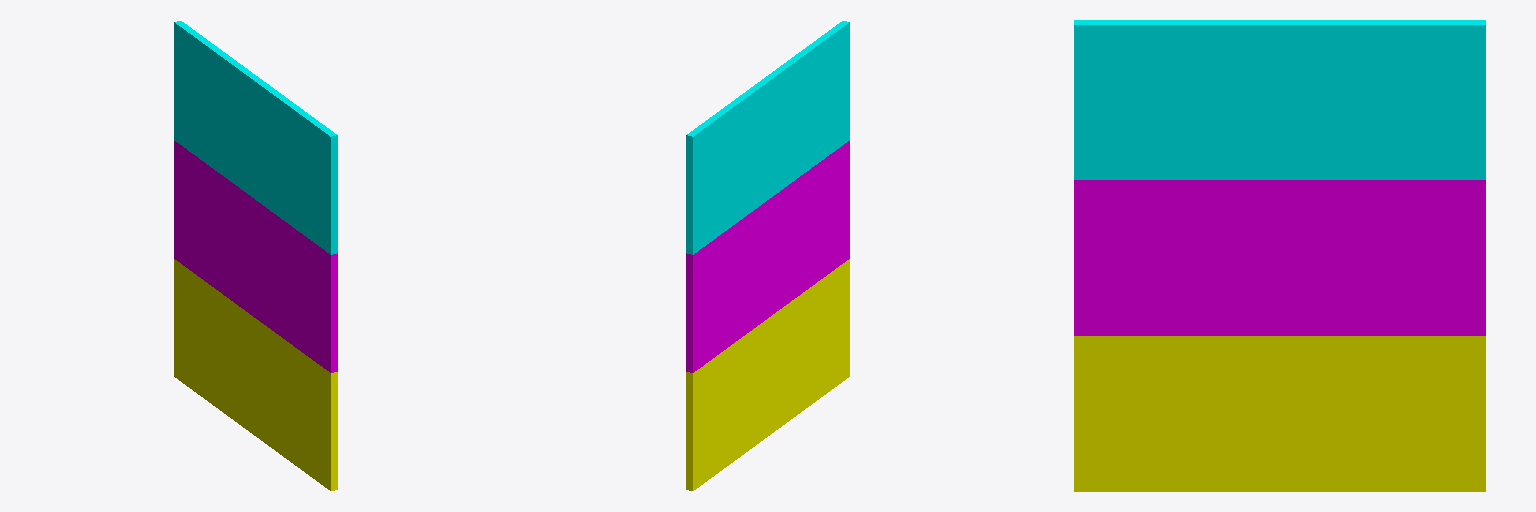
robot.urdf — board:
<?xml version="1.0"?>
<!--
  BaseEnv デフォルト壁と同寸:
    wall_thickness=0.01 (全厚 0.02), wall_height=1.0,
    南北壁スパン 2*xh = 5.0 (arena_half_extents=(2.5, 2.0) 時)
  ローカル座標: X=厚み, Y=壁沿い幅, Z=高さ
-->
<robot name="board">
  <material name="cyan">
    <color rgba="0.0 1.0 1.0 1.0"/>
  </material>
  <material name="magenta">
    <color rgba="1.0 0.0 1.0 1.0"/>
  </material>
  <material name="yellow">
    <color rgba="1.0 1.0 0.0 1.0"/>
  </material>

  <link name="base_link">
    <inertial>
      <mass value="1.0"/>
      <origin xyz="0 0 0.5" rpy="0 0 0"/>
      <inertia ixx="2.17" ixy="0" ixz="0" iyy="0.083" iyz="0" izz="2.08"/>
    </inertial>

    <!-- Top Stripe: Cyan -->
    <visual>
      <origin xyz="0 0 0.833" rpy="0 0 0"/>
      <geometry>
        <box size="0.02 0.8 0.333"/>
      </geometry>
      <material name="cyan"/>
    </visual>

    <!-- Middle Stripe: Magenta -->
    <visual>
      <origin xyz="0 0 0.5" rpy="0 0 0"/>
      <geometry>
        <box size="0.02 0.8 0.334"/>
      </geometry>
      <material name="magenta"/>
    </visual>

    <!-- Bottom Stripe: Yellow -->
    <visual>
      <origin xyz="0 0 0.167" rpy="0 0 0"/>
      <geometry>
        <box size="0.02 0.8 0.333"/>
      </geometry>
      <material name="yellow"/>
    </visual>

    <!-- Collision -->
    <collision>
      <origin xyz="0 0 0.5" rpy="0 0 0"/>
      <geometry>
        <box size="0.02 0.8 1.0"/>
      </geometry>
    </collision>
  </link>
</robot>

--- Facts derived from the render (not from the file) ---
Views: 3 orthographic renders of the robot side by side, from view 1: azimuth 30°, elevation 25°; view 2: azimuth 150°, elevation 25°; view 3: azimuth 270°, elevation 25°.
Model board with 1 links and 0 joints (none), rooted at base_link, posed all joints at 0.
Visible links, largest first — view 1: base_link; view 2: base_link; view 3: base_link.
Link boxes in pixels (left/top/right/bottom): base_link: left=174, top=21, right=337, bottom=490; base_link: left=686, top=21, right=849, bottom=490; base_link: left=1074, top=20, right=1485, bottom=491.
Bounding box of the posed robot: 0.02 × 0.8 × 0.999 m (x, y, z).
Geometry: primitives only (box / cylinder / sphere), no mesh files.
